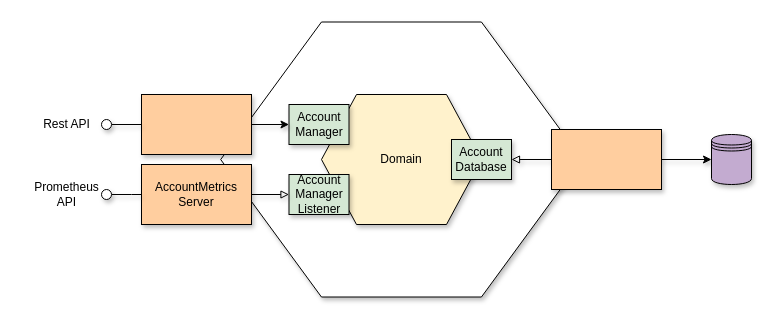
The diagram is 775 pixels wide and 321 high, and some of its shapes have lost their labels. Each missing label, with the centre of its shape:
AccountManager API: the point at 197,126
FileAccount Database: the point at 607,160
